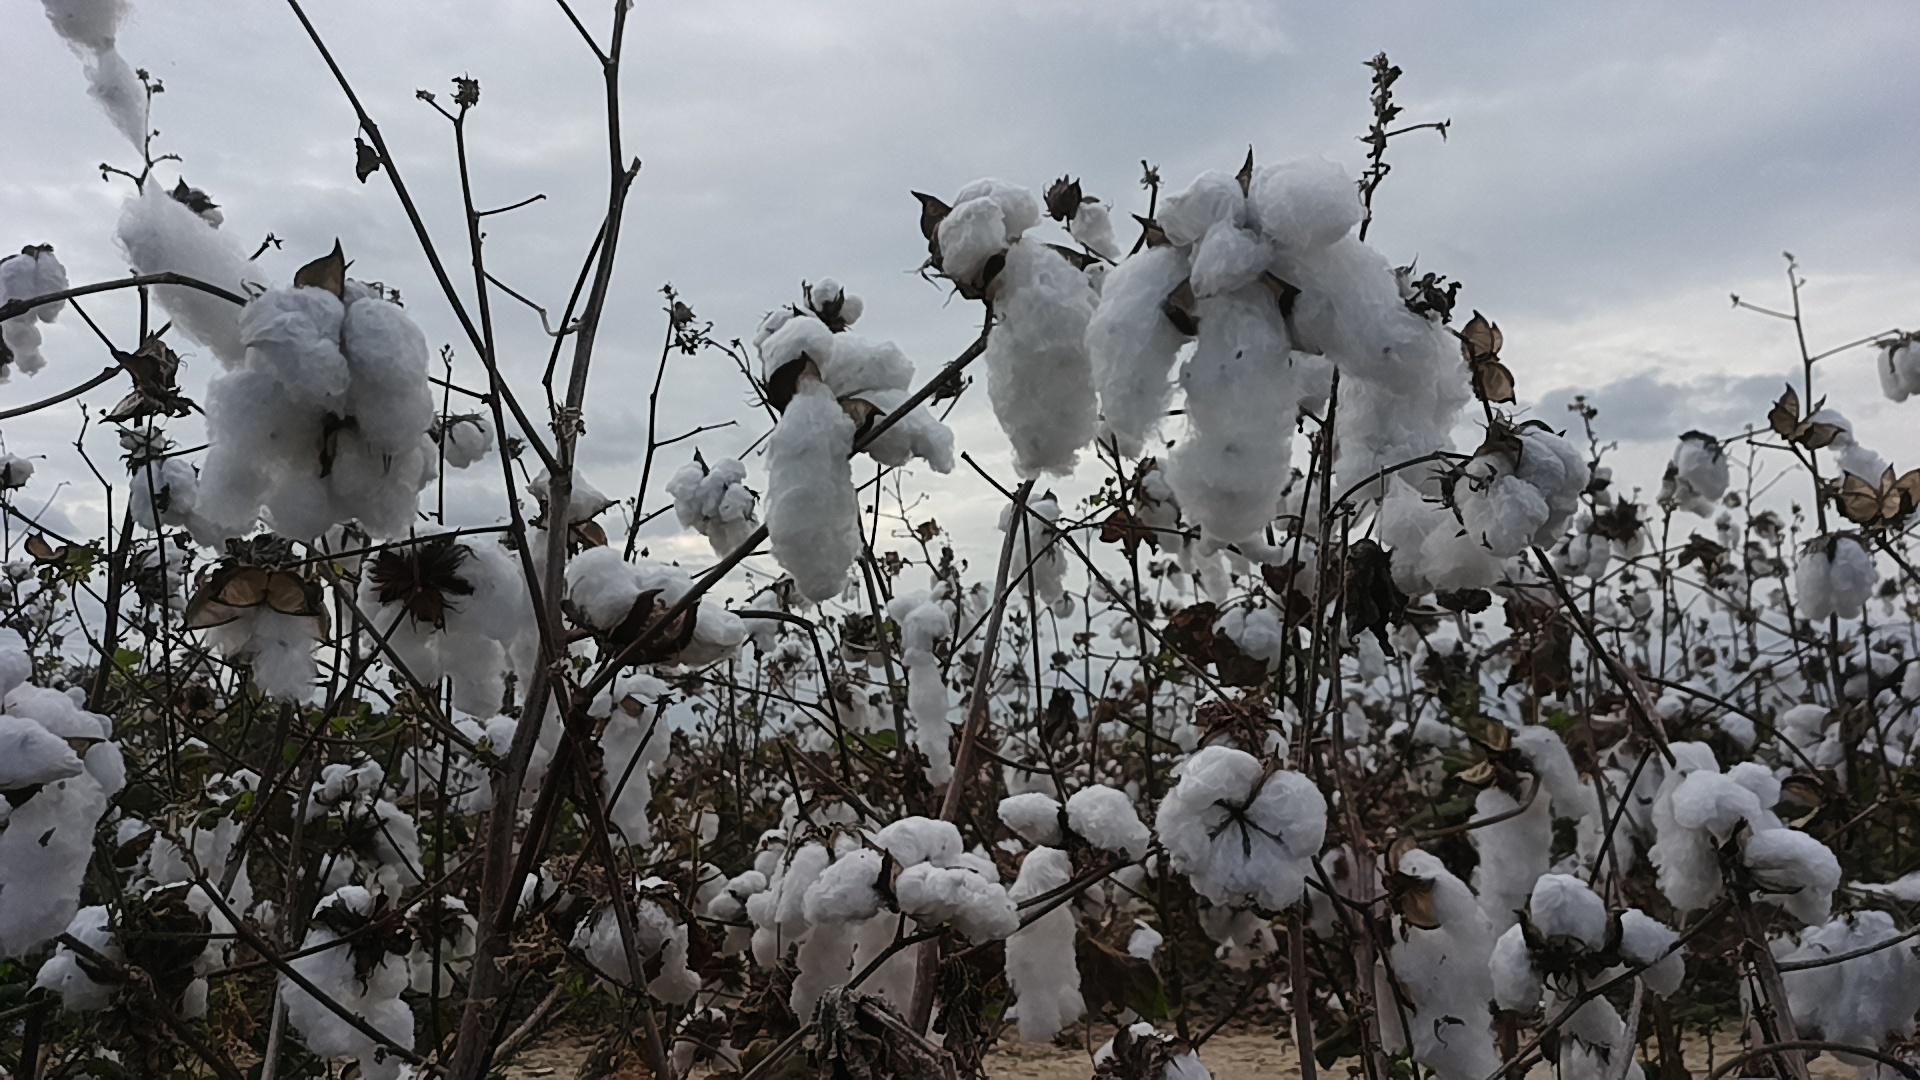cotton_ready: (1087, 154, 1432, 542), (193, 287, 436, 539), (756, 314, 957, 601), (938, 178, 1096, 484), (997, 782, 1153, 1048), (0, 683, 129, 965), (1648, 744, 1838, 931), (1487, 876, 1685, 1051), (359, 521, 525, 716), (764, 820, 922, 1018), (802, 815, 1026, 947), (117, 171, 272, 363), (28, 880, 233, 1018), (1375, 851, 1497, 1080), (1156, 745, 1327, 909), (518, 459, 612, 750), (1336, 309, 1472, 506), (282, 889, 418, 1080), (1749, 914, 1920, 1062), (564, 543, 745, 662), (1447, 423, 1590, 559), (37, 0, 152, 156), (583, 674, 674, 853), (572, 893, 702, 1006), (1378, 476, 1501, 595), (203, 578, 320, 702), (885, 582, 953, 789), (1473, 765, 1553, 916), (0, 245, 70, 392), (451, 719, 553, 810), (666, 459, 760, 555), (148, 790, 239, 886), (1513, 721, 1593, 822), (997, 492, 1067, 599), (344, 795, 423, 887), (1807, 410, 1892, 491), (1799, 537, 1876, 622), (1096, 1025, 1213, 1080), (132, 455, 200, 533), (1213, 599, 1282, 674), (409, 891, 479, 963), (1673, 430, 1734, 500), (1875, 338, 1920, 404)
